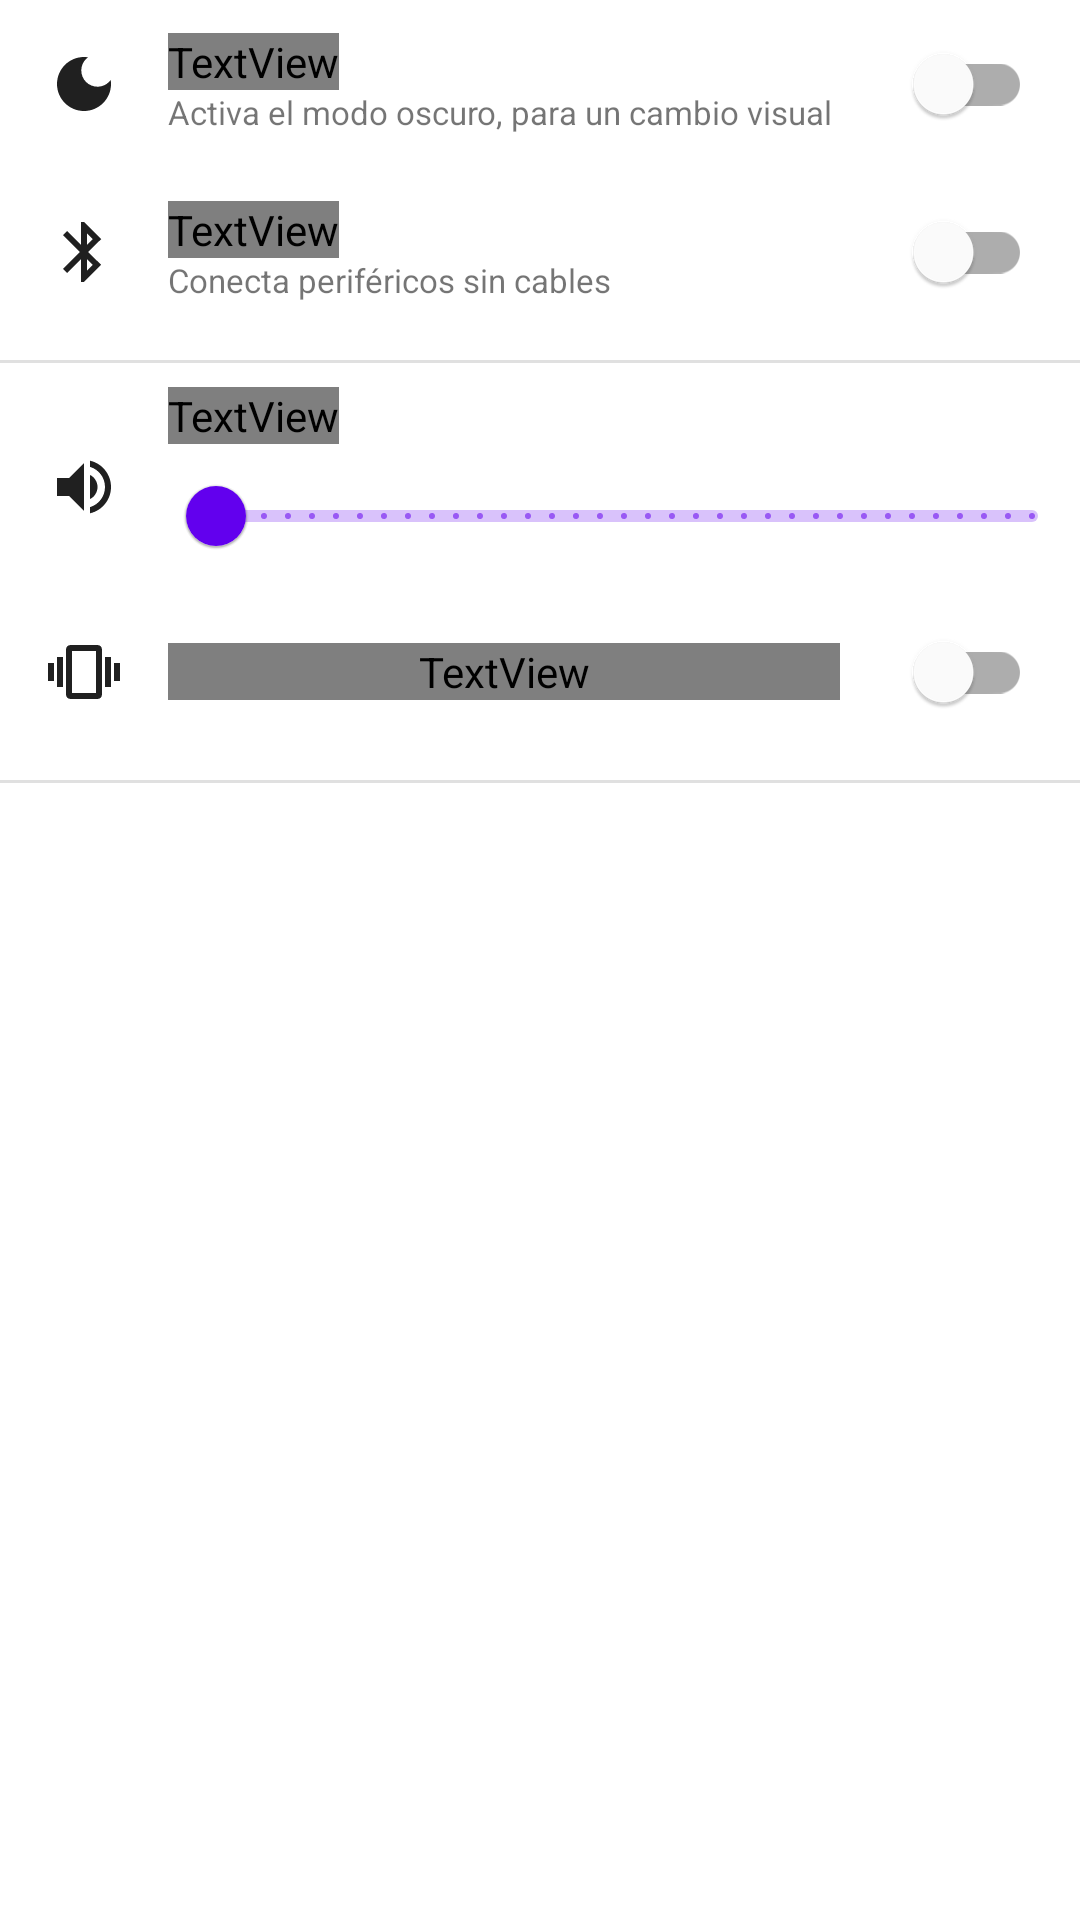

Where icons sit on this 1080x1920 app screen, as (x1, y1, x2, y2):
mode: (57, 57, 111, 111)
volume up: (57, 460, 111, 514)
